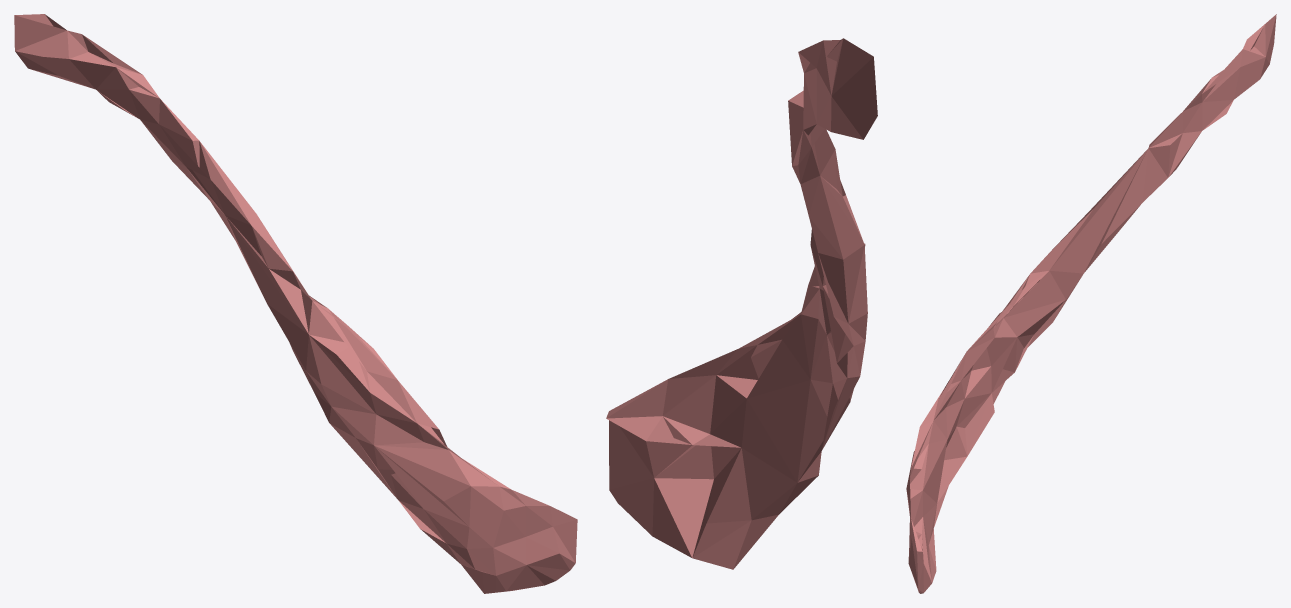
File: Abdominal_part_of_pectoralis_major_muscle.r.glb
3 views of the same model, side by side, from view 1: azimuth 30°, elevation 25°; view 2: azimuth 150°, elevation 25°; view 3: azimuth 270°, elevation 25° (orthographic). The views are drawn at different scales.
Visible parts, largest first — view 1: Abdominal_part_of_pectoralis_major_muscle.r; view 2: Abdominal_part_of_pectoralis_major_muscle.r; view 3: Abdominal_part_of_pectoralis_major_muscle.r.
Boxes of the visible parts, x1,y1,x2,y2 form: Abdominal_part_of_pectoralis_major_muscle.r: (14,14,577,593); Abdominal_part_of_pectoralis_major_muscle.r: (606,38,877,569); Abdominal_part_of_pectoralis_major_muscle.r: (906,14,1276,593).
Size of the model in its own units: 0.1244 by 0.1675 by 0.1274.
